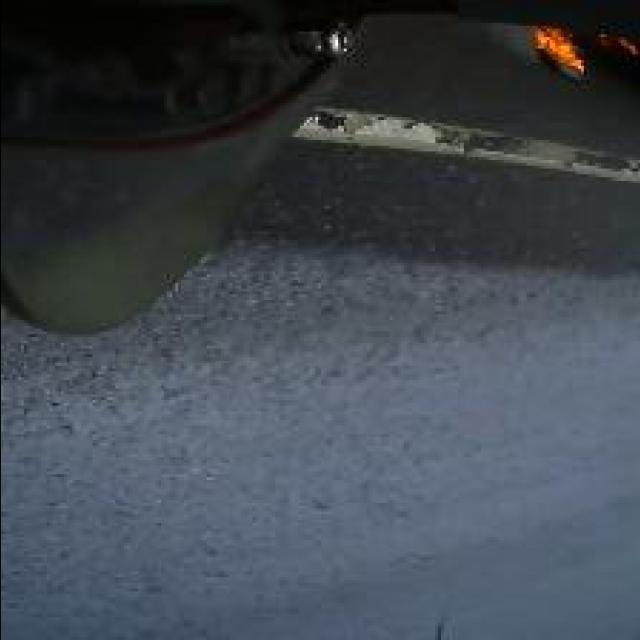Fire: (533, 29, 587, 74)
